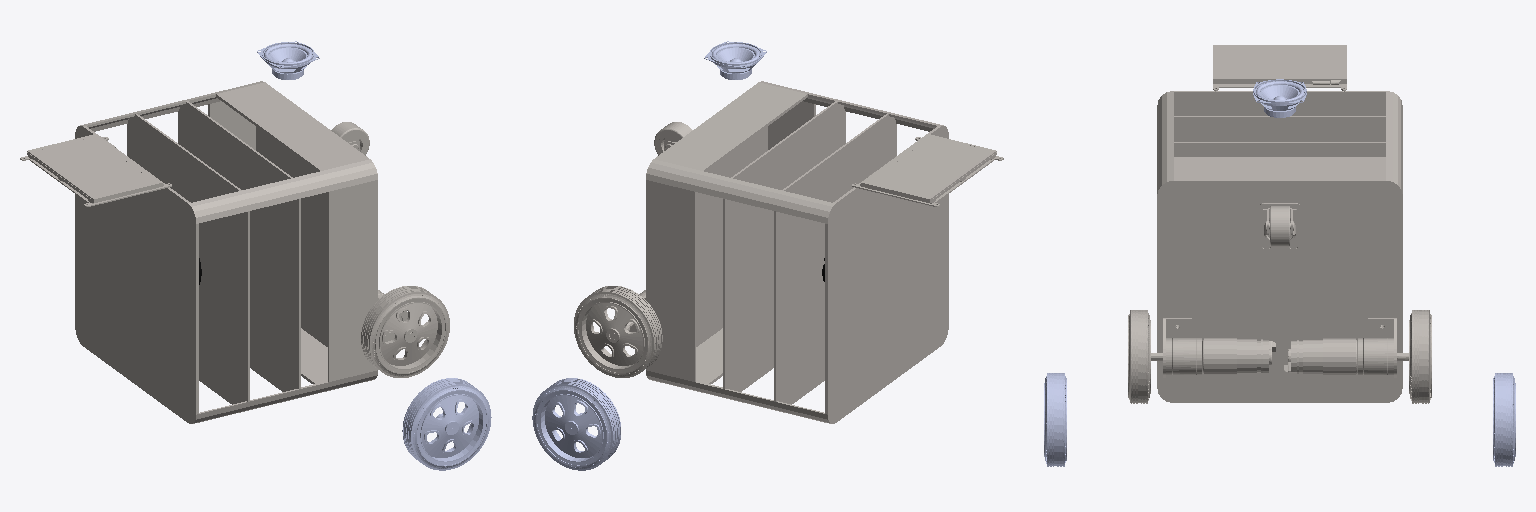
The robot description file, URDF, robot "service_robot_urdf":
<?xml version="1.0" encoding="utf-8"?>
<!-- This URDF was automatically created by SolidWorks to URDF Exporter! Originally created by [author] ([email redacted]) 
     Commit Version: 1.6.0-4-g7f85cfe  Build Version: 1.6.7995.38578
     For more information, please see http://wiki.ros.org/sw_urdf_exporter -->
<robot
  name="service_robot_urdf">
  <link
    name="base_footprint">
    <inertial>
      <origin
        xyz="0.39485 -0.0052182 0.008626"
        rpy="0 0 0" />
      <mass
        value="29.888" />
      <inertia
        ixx="1.1402"
        ixy="-0.0017646"
        ixz="0.00025221"
        iyy="0.88941"
        iyz="2.731E-06"
        izz="0.89414" />
    </inertial>
    <visual>
      <origin
        xyz="0 0 0"
        rpy="0 0 0" />
      <geometry>
        <mesh
          filename="package://service_robot_urdf/meshes/base_footprint.STL" />
      </geometry>
      <material
        name="">
        <color
          rgba="0.77647 0.75686 0.73725 1" />
      </material>
    </visual>
    <collision>
      <origin
        xyz="0 0 0"
        rpy="0 0 0" />
      <geometry>
        <mesh
          filename="package://service_robot_urdf/meshes/base_footprint.STL" />
      </geometry>
    </collision>
  </link>
  <link
    name="base_link">
    <inertial>
      <origin
        xyz="0.0086259616538904 0.00521822249715609 0.310851288819772"
        rpy="0 0 0" />
      <mass
        value="29.8878371864307" />
      <inertia
        ixx="0.894135181812627"
        ixy="-2.73104975419701E-06"
        ixz="0.000252209744103177"
        iyy="0.889414954605538"
        iyz="0.00176456036828637"
        izz="1.14020925293907" />
    </inertial>
    <visual>
      <origin
        xyz="0 0 0"
        rpy="0 0 0" />
      <geometry>
        <mesh
          filename="package://service_robot_urdf/meshes/base_link.STL" />
      </geometry>
      <material
        name="">
        <color
          rgba="0.776470588235294 0.756862745098039 0.737254901960784 1" />
      </material>
    </visual>
    <collision>
      <origin
        xyz="0 0 0"
        rpy="0 0 0" />
      <geometry>
        <mesh
          filename="package://service_robot_urdf/meshes/base_link.STL" />
      </geometry>
    </collision>
  </link>
  <joint
    name="base_link_jt"
    type="fixed">
    <origin
      xyz="0.084 0 0"
      rpy="0 -1.5708 0" />
    <parent
      link="base_footprint" />
    <child
      link="base_link" />
    <axis
      xyz="0 0 0" />
  </joint>
  <link
    name="scan">
    <inertial>
      <origin
        xyz="-0.00578430409330077 -0.000495122459051256 0.000638309703434425"
        rpy="0 0 0" />
      <mass
        value="0.14299417446786" />
      <inertia
        ixx="4.62767613446328E-05"
        ixy="-8.53626708103692E-07"
        ixz="-3.62184439035664E-06"
        iyy="7.34746282541056E-05"
        iyz="2.04285506164686E-07"
        izz="0.000107960205150674" />
    </inertial>
    <visual>
      <origin
        xyz="0 0 0"
        rpy="0 0 0" />
      <geometry>
        <mesh
          filename="package://service_robot_urdf/meshes/scan.STL" />
      </geometry>
      <material
        name="">
        <color
          rgba="0.101960784313725 0.101960784313725 0.101960784313725 1" />
      </material>
    </visual>
    <collision>
      <origin
        xyz="0 0 0"
        rpy="0 0 0" />
      <geometry>
        <mesh
          filename="package://service_robot_urdf/meshes/scan.STL" />
      </geometry>
    </collision>
  </link>
  <joint
    name="scan_jt"
    type="fixed">
    <origin
      xyz="0 0 0.1744"
      rpy="0 0 0" />
    <parent
      link="base_link" />
    <child
      link="scan" />
    <axis
      xyz="0 0 1" />
  </joint>
  <link
    name="IMU">
    <inertial>
      <origin
        xyz="-0.0160966889369092 6.74922376875386E-08 3.71943995602919E-08"
        rpy="0 0 0" />
      <mass
        value="0.0158475098031171" />
      <inertia
        ixx="5.98961222534219E-06"
        ixy="-1.06198640373641E-11"
        ixz="-5.61862447694844E-12"
        iyy="4.0301198501578E-06"
        iyz="-1.14934183746755E-11"
        izz="3.97025054959764E-06" />
    </inertial>
    <visual>
      <origin
        xyz="0 0 0"
        rpy="0 0 0" />
      <geometry>
        <mesh
          filename="package://service_robot_urdf/meshes/IMU.STL" />
      </geometry>
      <material
        name="">
        <color
          rgba="0.792156862745098 0.819607843137255 0.933333333333333 1" />
      </material>
    </visual>
    <collision>
      <origin
        xyz="0 0 0"
        rpy="0 0 0" />
      <geometry>
        <mesh
          filename="package://service_robot_urdf/meshes/IMU.STL" />
      </geometry>
    </collision>
  </link>
  <joint
    name="IMU_jt"
    type="fixed">
    <origin
      xyz="0.24998 0 0.042103"
      rpy="0 0 0" />
    <parent
      link="base_link" />
    <child
      link="IMU" />
    <axis
      xyz="1 0 0" />
  </joint>
  <link
    name="right_wheel">
    <inertial>
      <origin
        xyz="-4.97844232505429E-09 -3.0535426409628E-09 -0.0131236838725217"
        rpy="0 0 0" />
      <mass
        value="0.124852697022667" />
      <inertia
        ixx="0.000144756546502386"
        ixy="-1.25987389982755E-12"
        ixz="3.02221907233422E-12"
        iyy="0.000144756543553378"
        iyz="9.3608475824482E-13"
        izz="0.000278178176215626" />
    </inertial>
    <visual>
      <origin
        xyz="0 0 0"
        rpy="0 0 0" />
      <geometry>
        <mesh
          filename="package://service_robot_urdf/meshes/right_wheel.STL" />
      </geometry>
      <material
        name="">
        <color
          rgba="0.792156862745098 0.819607843137255 0.933333333333333 1" />
      </material>
    </visual>
    <collision>
      <origin
        xyz="0 0 0"
        rpy="0 0 0" />
      <geometry>
        <mesh
          filename="package://service_robot_urdf/meshes/right_wheel.STL" />
      </geometry>
    </collision>
  </link>
  <joint
    name="right_wheel_jt"
    type="fixed">
    <origin
      xyz="-0.16 -0.28785 -0.0265"
      rpy="1.5708 0 0" />
    <parent
      link="base_link" />
    <child
      link="right_wheel" />
    <axis
      xyz="0 0 1" />
  </joint>
  <link
    name="left_wheel">
    <inertial>
      <origin
        xyz="3.05353986540524E-09 -4.97882335359634E-09 -0.0131236838727548"
        rpy="0 0 0" />
      <mass
        value="0.124852697022668" />
      <inertia
        ixx="0.000144756543553379"
        ixy="1.25987383795358E-12"
        ixz="-9.36085065145622E-13"
        iyy="0.000144756546502386"
        iyz="3.02612035324669E-12"
        izz="0.000278178176215627" />
    </inertial>
    <visual>
      <origin
        xyz="0 0 0"
        rpy="0 0 0" />
      <geometry>
        <mesh
          filename="package://service_robot_urdf/meshes/left_wheel.STL" />
      </geometry>
      <material
        name="">
        <color
          rgba="0.792156862745098 0.819607843137255 0.933333333333333 1" />
      </material>
    </visual>
    <collision>
      <origin
        xyz="0 0 0"
        rpy="0 0 0" />
      <geometry>
        <mesh
          filename="package://service_robot_urdf/meshes/left_wheel.STL" />
      </geometry>
    </collision>
  </link>
  <joint
    name="left_wheel_jt"
    type="fixed">
    <origin
      xyz="-0.16 0.28785 -0.0265"
      rpy="-1.5708 0 0" />
    <parent
      link="base_link" />
    <child
      link="left_wheel" />
    <axis
      xyz="0 0 1" />
  </joint>
</robot>

--- Render facts (derived) ---
3 views of the same robot in one strip: view 1: azimuth 30°, elevation 25°; view 2: azimuth 150°, elevation 25°; view 3: azimuth 270°, elevation 25° (orthographic).
Model service_robot_urdf with 6 links and 5 joints (5 fixed), rooted at base_footprint, posed all joints at 0.
Links seen in each view (by area): view 1: base_link, right_wheel, IMU; view 2: base_link, left_wheel, IMU; view 3: base_link, right_wheel, left_wheel, IMU.
Link boxes in pixels (x1,y1,x2,y2): base_link: [20, 81, 449, 423]; right_wheel: [402, 378, 491, 470]; IMU: [257, 41, 319, 79]; base_link: [574, 81, 1003, 423]; left_wheel: [532, 378, 620, 470]; IMU: [704, 41, 766, 79]; base_link: [1128, 45, 1431, 403]; right_wheel: [1044, 373, 1066, 466]; left_wheel: [1493, 373, 1515, 466]; IMU: [1253, 79, 1306, 117].
Bounding box of the posed robot: 0.4627 × 0.5757 × 0.4695 m (x, y, z).
Meshes: 6 distinct files referenced, 5 mesh visuals loaded (5 binary STL); not drawn: 1 (reference not matched to a file when rendering).